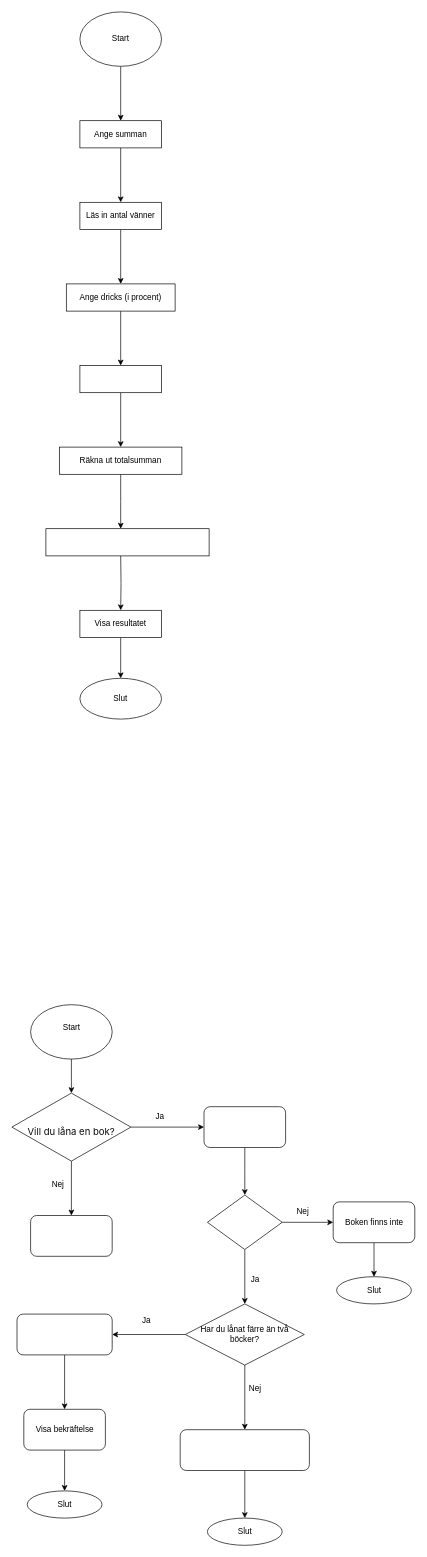
This 427x1557 diagram has some shape labels left out. The shapes that lost their labels are listed below. From the top down, each one's centre as x and y in pixels, then its label:
pixel 120 379: Räkna ut dricksen
pixel 127 542: Räkna ut hur mycket var och en ska betala
pixel 244 1127: Vad heter boken?
pixel 71 1235: Avsluta programmet
pixel 244 1222: Finns boken?
pixel 64 1334: Boken markeras utlånad
pixel 244 1449: Du har redan lånat två böcker
